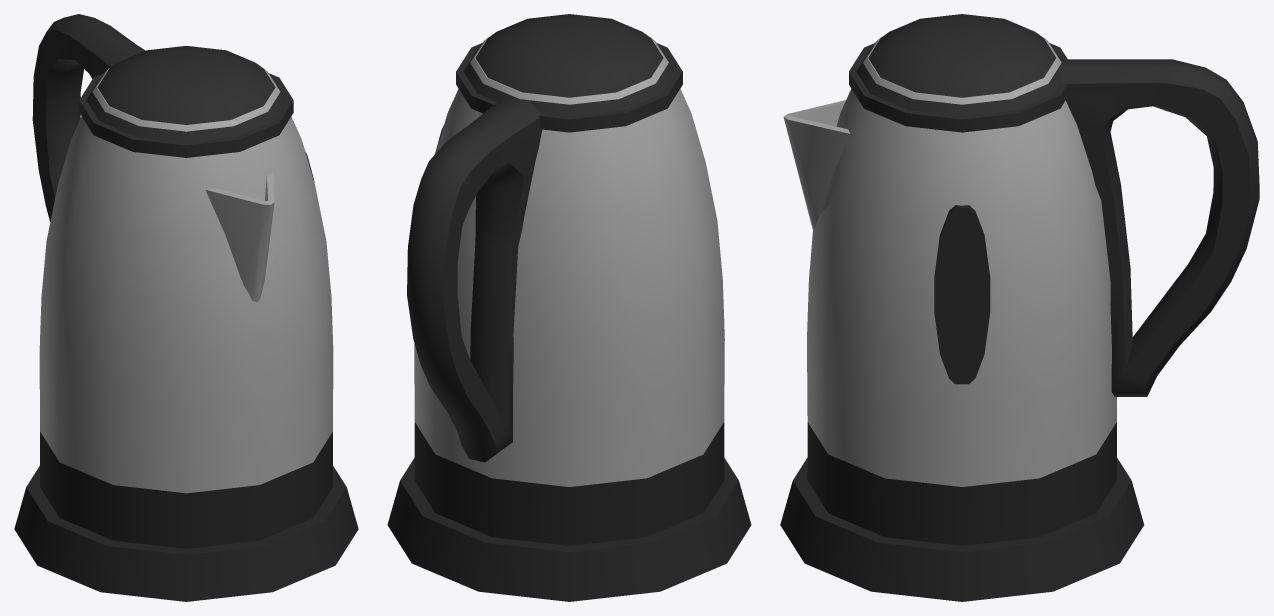
The model's file is TeaKettle_01.fbx.
3 views of the same model, side by side, from view 1: azimuth 30°, elevation 25°; view 2: azimuth 150°, elevation 25°; view 3: azimuth 270°, elevation 25° (orthographic). The views are drawn at different scales.
Parts seen in each view (by area): view 1: TeaKettle_01, TeaKettle_01_Lid; view 2: TeaKettle_01, TeaKettle_01_Lid; view 3: TeaKettle_01, TeaKettle_01_Lid.
Part boxes in pixels (bbox=[...]): TeaKettle_01: bbox=[14, 14, 358, 601]; TeaKettle_01_Lid: bbox=[97, 46, 275, 124]; TeaKettle_01: bbox=[387, 37, 751, 601]; TeaKettle_01_Lid: bbox=[475, 14, 663, 97]; TeaKettle_01: bbox=[780, 37, 1259, 601]; TeaKettle_01_Lid: bbox=[868, 14, 1055, 97].
Bounding box in the file's own units: 0.2026 × 0.3011 × 0.2668.
